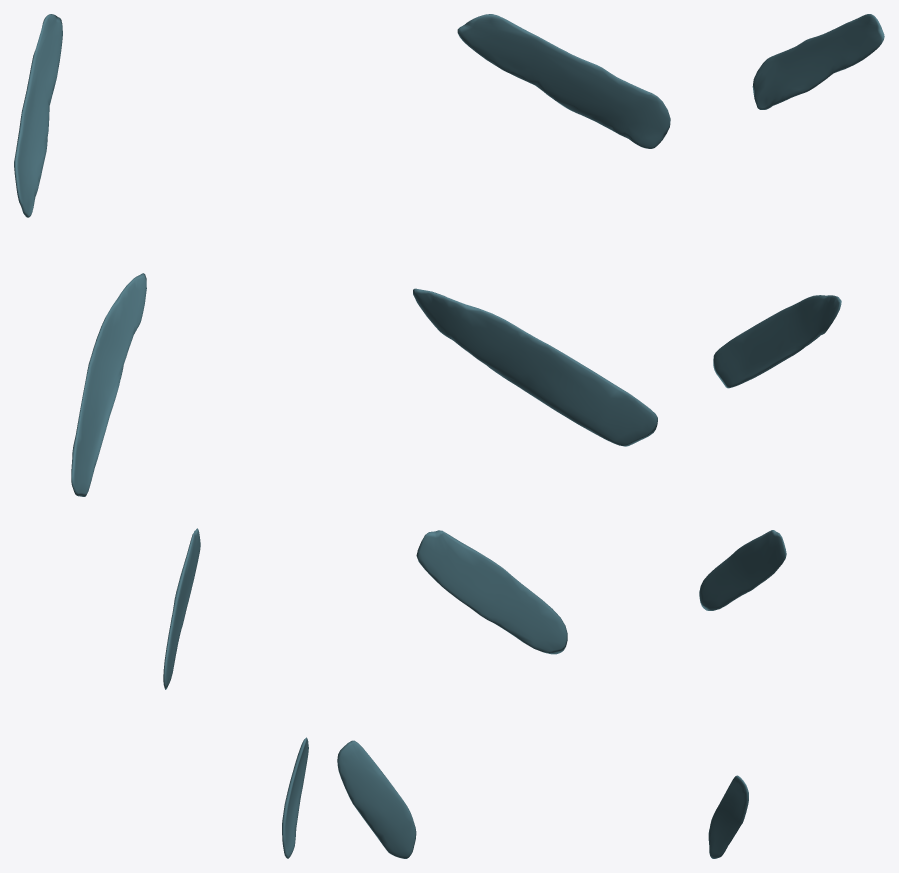
File: Serratus_posterior_inferior_muscle-Thoracic_insertions.r_Genera.glb
The picture shows the model from 3 angles, left to right: view 1: azimuth 30°, elevation 25°; view 2: azimuth 150°, elevation 25°; view 3: azimuth 270°, elevation 25°; orthographic projection. The views are drawn at different scales.
Visible parts, largest first — view 1: Serratus_posterior_inferior_muscle-Thoracic_insertions.r_Gen; view 2: Serratus_posterior_inferior_muscle-Thoracic_insertions.r_Gen; view 3: Serratus_posterior_inferior_muscle-Thoracic_insertions.r_Gen.
Boxes of the visible parts, left/top/right/bottom form: Serratus_posterior_inferior_muscle-Thoracic_insertions.r_Gen: left=14, top=14, right=308, bottom=858; Serratus_posterior_inferior_muscle-Thoracic_insertions.r_Gen: left=337, top=14, right=670, bottom=858; Serratus_posterior_inferior_muscle-Thoracic_insertions.r_Gen: left=699, top=14, right=884, bottom=858.
Size of the model in its own units: 0.0427 by 0.1166 by 0.0254.
